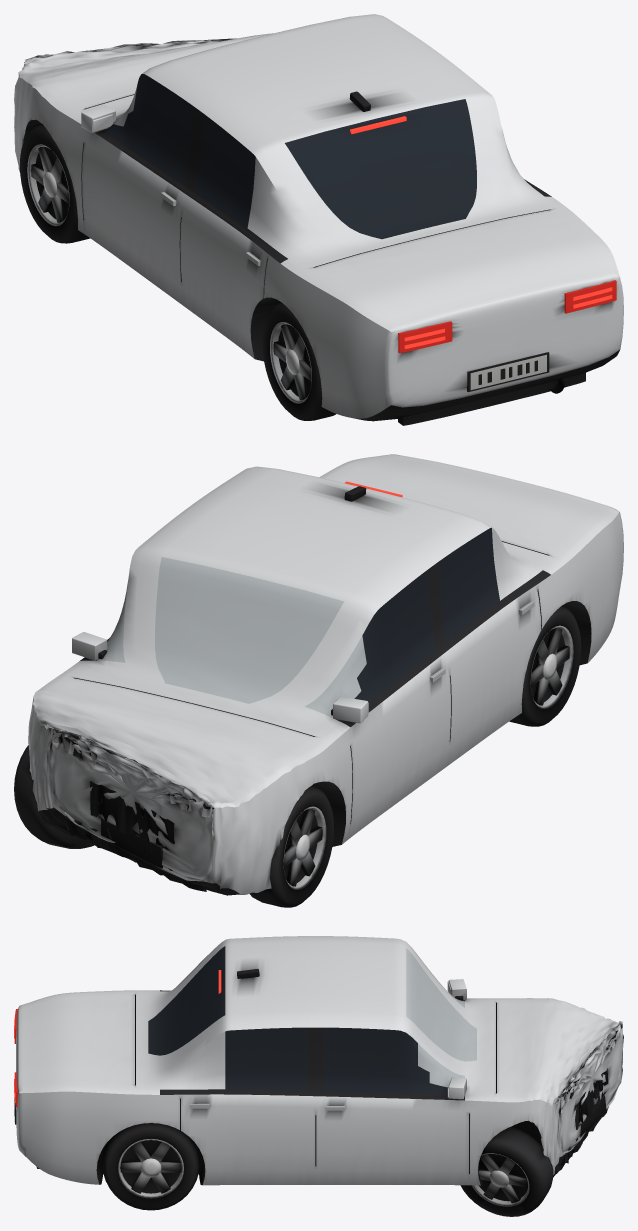
Rendered from t_sedan_wreck.glb.
3 views of the same model, one above another, from view 1: azimuth 30°, elevation 25°; view 2: azimuth 150°, elevation 25°; view 3: azimuth 270°, elevation 25° (orthographic). The views are drawn at different scales.
Parts seen in each view (by area): view 1: Body, Details, Wheel_RL, Wheel_FL, Rounded; view 2: Body, Details, Wheel_FL, Wheel_RL, Wheel_FR, Rounded; view 3: Body, Wheel_RR, Wheel_FR, Details, Rounded.
Boxes of the visible parts, x1,y1,x2,y2 form: Body: [14, 14, 623, 421]; Details: [24, 59, 616, 425]; Wheel_RL: [262, 302, 335, 420]; Wheel_FL: [19, 123, 89, 243]; Rounded: [81, 91, 370, 132]; Body: [28, 454, 623, 895]; Details: [52, 481, 534, 891]; Wheel_FL: [249, 785, 333, 907]; Wheel_RL: [509, 606, 581, 726]; Wheel_FR: [14, 745, 93, 848]; Rounded: [72, 486, 368, 723]; Body: [16, 936, 623, 1185]; Wheel_RR: [102, 1123, 199, 1210]; Wheel_FR: [460, 1126, 553, 1216]; Details: [14, 970, 622, 1168]; Rounded: [237, 969, 466, 1099].
Size of the model in its own units: 1.92 by 1.6 by 4.4.
